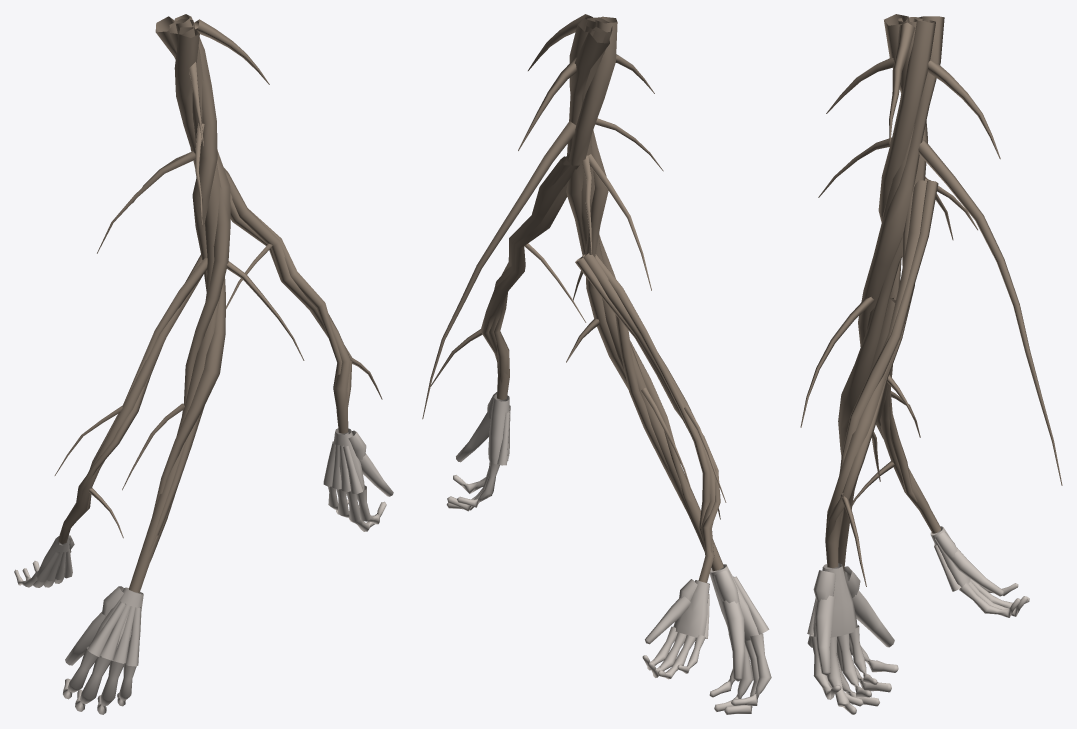
Rendered from HandRoot5.fbx.
The picture shows the model from 3 angles, left to right: view 1: azimuth 30°, elevation 25°; view 2: azimuth 150°, elevation 25°; view 3: azimuth 270°, elevation 25°; orthographic projection. The views are drawn at different scales.
Parts seen in each view (by area): view 1: HandRoot5; view 2: HandRoot5; view 3: HandRoot5.
Part boxes in pixels (x1,y1,x2,y2): HandRoot5: (14, 14, 393, 714); HandRoot5: (422, 14, 771, 714); HandRoot5: (800, 14, 1062, 714).
Size of the model in its own units: 0.9267 by 1.81 by 0.5719.
